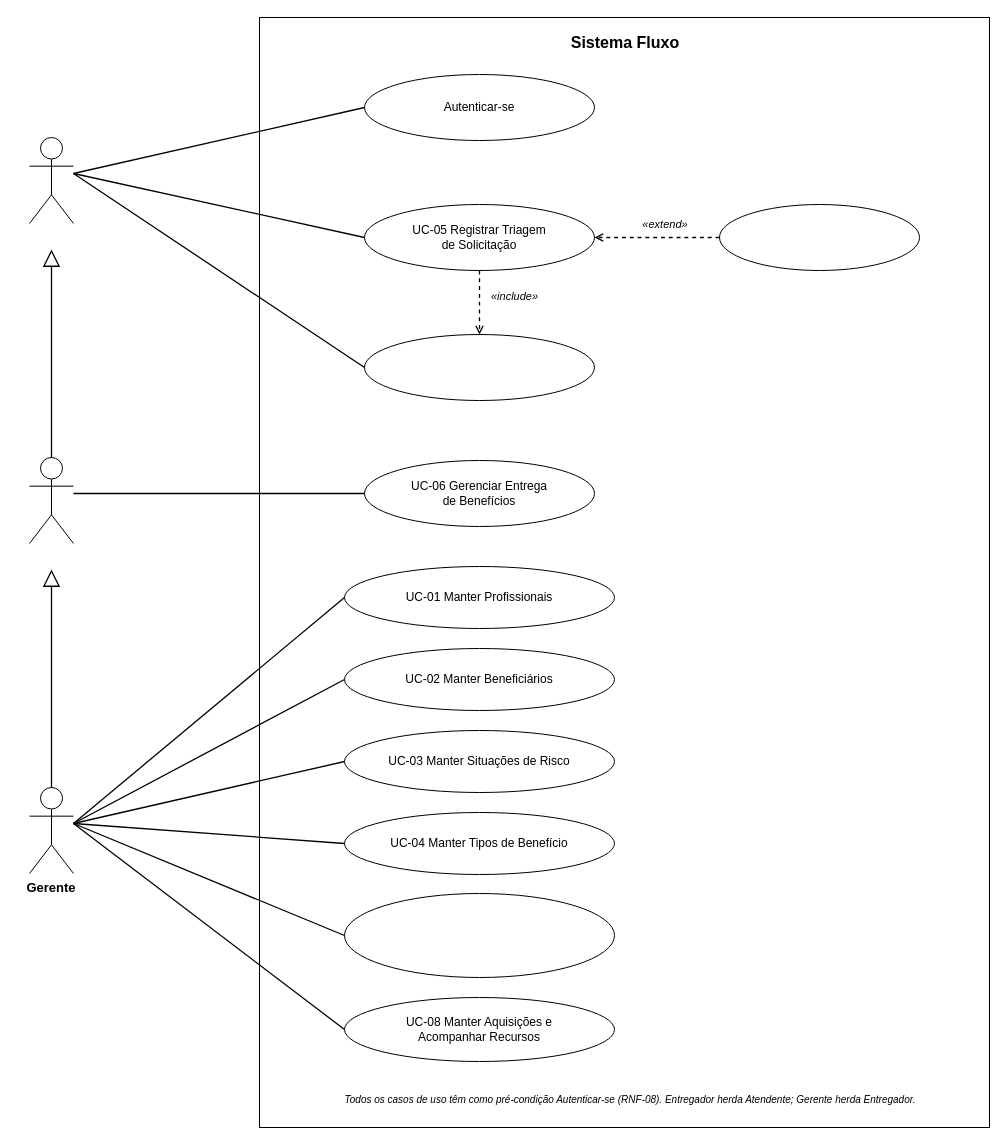
This 1007x1145 diagram has some shape labels left out. Each missing label, with the box of its shape:
Atendente: (28, 136, 74, 224)
Consultar Beneficiários: (364, 334, 594, 400)
Emitir Alerta de Duplicidade: (718, 204, 920, 270)
Entregador: (28, 456, 74, 544)
UC-07 Consultar Histórico, Emitir Relatórios e Visualizar Dashboard: (344, 892, 614, 978)
